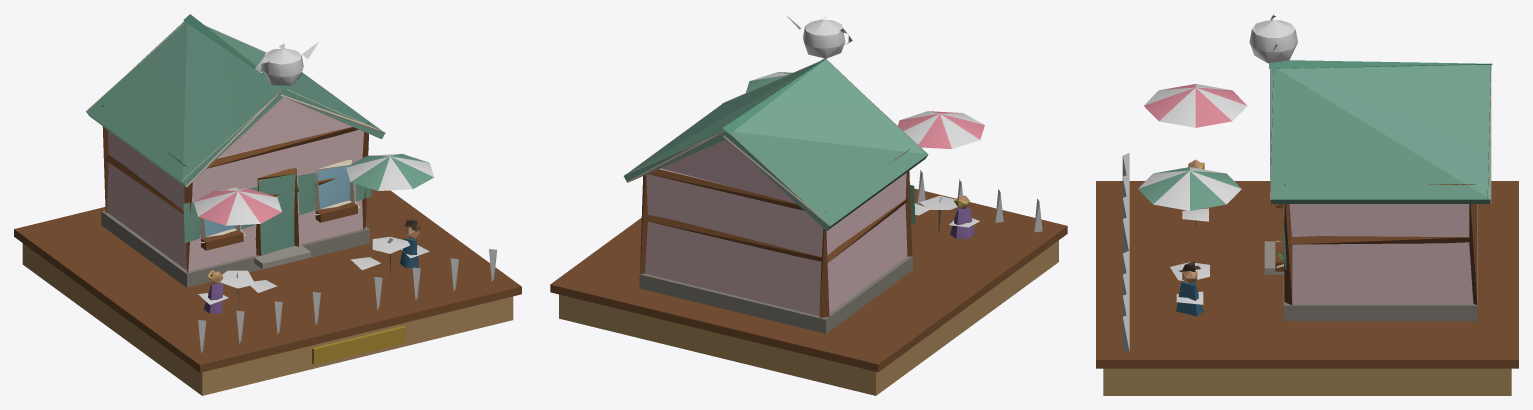
Rendered from tea_room_souvenir.glb.
The picture shows the model from 3 angles, left to right: view 1: azimuth 30°, elevation 25°; view 2: azimuth 150°, elevation 25°; view 3: azimuth 270°, elevation 25°; orthographic projection. The views are drawn at different scales.
Parts seen in each view (by area): view 1: decor-tea_room_souvenir; view 2: decor-tea_room_souvenir; view 3: decor-tea_room_souvenir.
Boxes of the visible parts, x1,y1,x2,y2 form: decor-tea_room_souvenir: (14, 14, 521, 395); decor-tea_room_souvenir: (550, 15, 1067, 395); decor-tea_room_souvenir: (1096, 14, 1518, 395).
Size of the model in its own units: 1.76 by 1.36 by 1.76.
